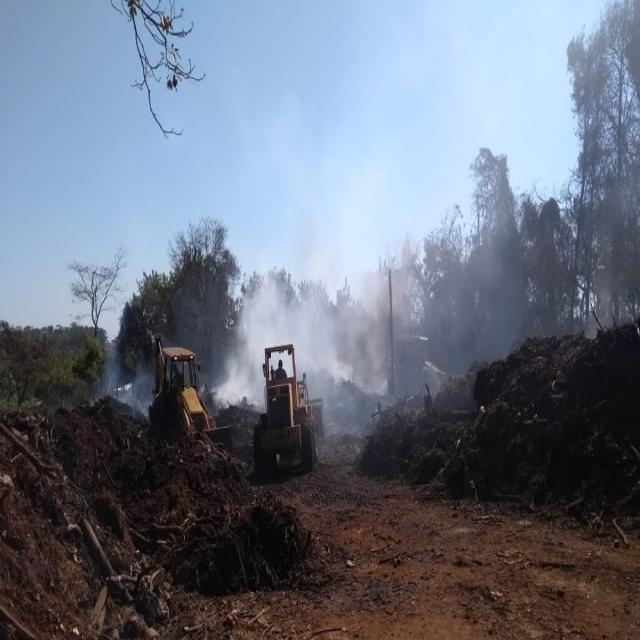Smoke: (200, 247, 422, 457), (92, 348, 168, 418)
